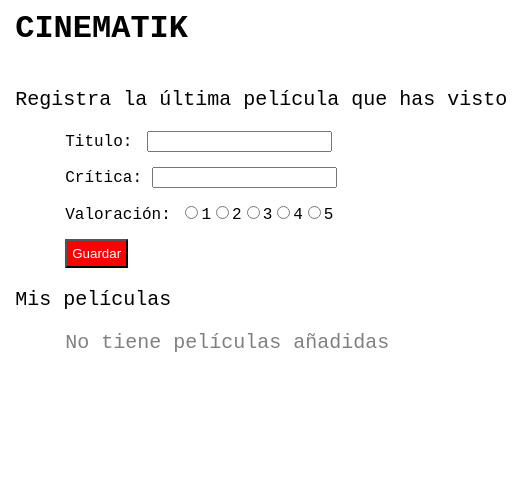
Test case: Añade una película con crítica
The width and height of the screenshot is (523, 495).
Type "Star Wars" into the field labelled "Titulo:".
click(240, 142); type("Star Wars")  # box [147,131,332,152]
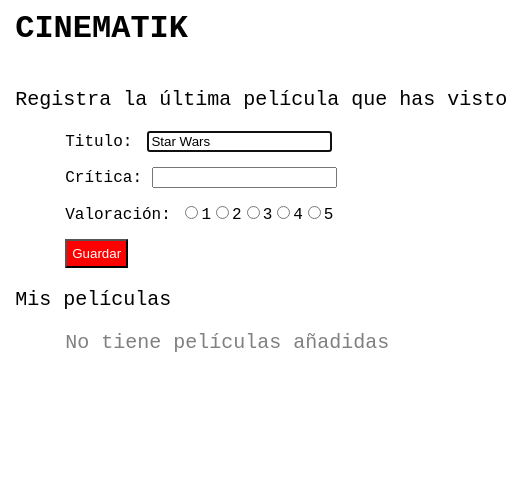
Type "Es una película muy buena." into the field labelled "Crítica:".
click(244, 178); type("Es una película muy buena.")  # box [152,167,337,188]
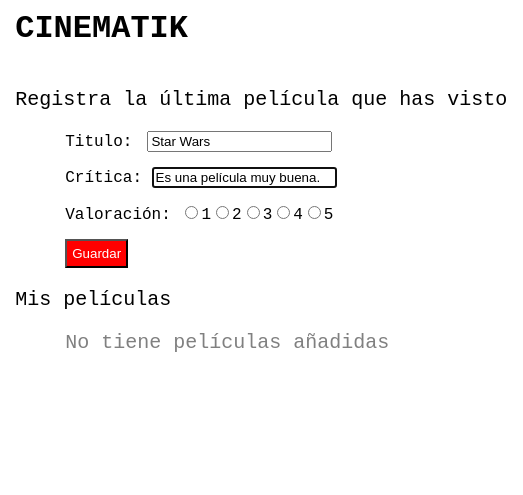
Click the button "Guardar".
click(97, 254)  # box [65,239,128,268]
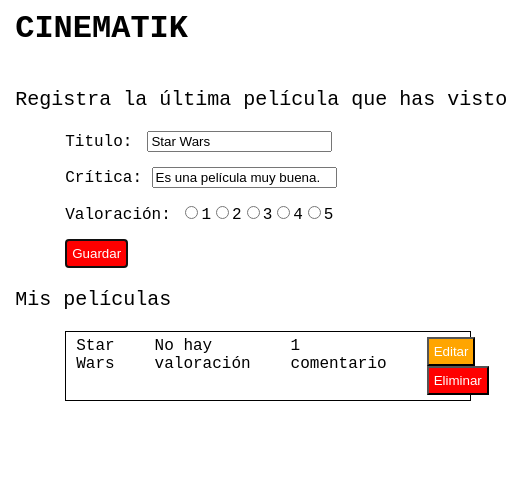
Click the text "Star Wars".
click(95, 366)  # box [76,337,115,395]
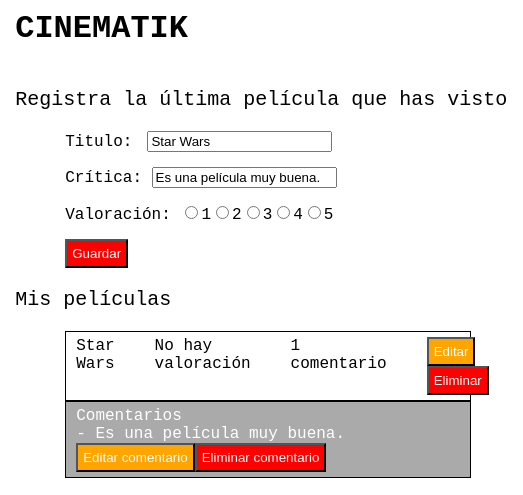
Expected: the text "- Es una película muy buena." is shown, [76,425,345,443]
